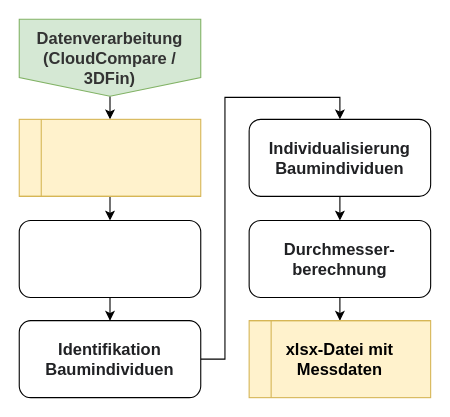
Image size: 450x417. Some labels were removed from this diagram. Each missing label, with the centre of its shape:
"Normalisierung" belongs at [109,258].
"Zuschnitte 3D-Punktwolke" belongs at [109,157].
